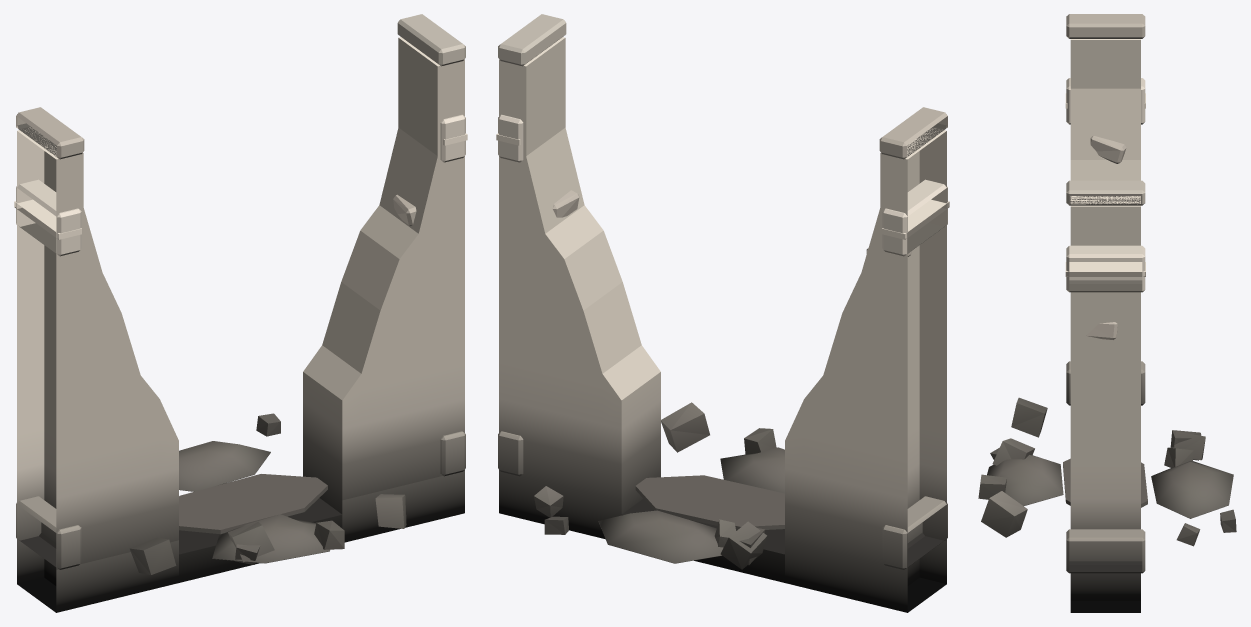
Rendered from SM_VKI_Wall_Dwarf_Breach_300_Full.fbx.
3 renders of one model, left to right at view 1: azimuth 30°, elevation 25°; view 2: azimuth 150°, elevation 25°; view 3: azimuth 270°, elevation 25°, orthographic. The views are drawn at different scales.
Parts seen in each view (by area): view 1: SM_VKI_Wall_Dwarf_Breach_300_Full.001; view 2: SM_VKI_Wall_Dwarf_Breach_300_Full.001; view 3: SM_VKI_Wall_Dwarf_Breach_300_Full.001.
Part boxes in pixels (box(x1,y1,x2,y2)): SM_VKI_Wall_Dwarf_Breach_300_Full.001: box(14, 14, 467, 612); SM_VKI_Wall_Dwarf_Breach_300_Full.001: box(496, 14, 949, 612); SM_VKI_Wall_Dwarf_Breach_300_Full.001: box(978, 14, 1236, 612).
Size of the model in its own units: 3 by 3.3 by 1.83.
